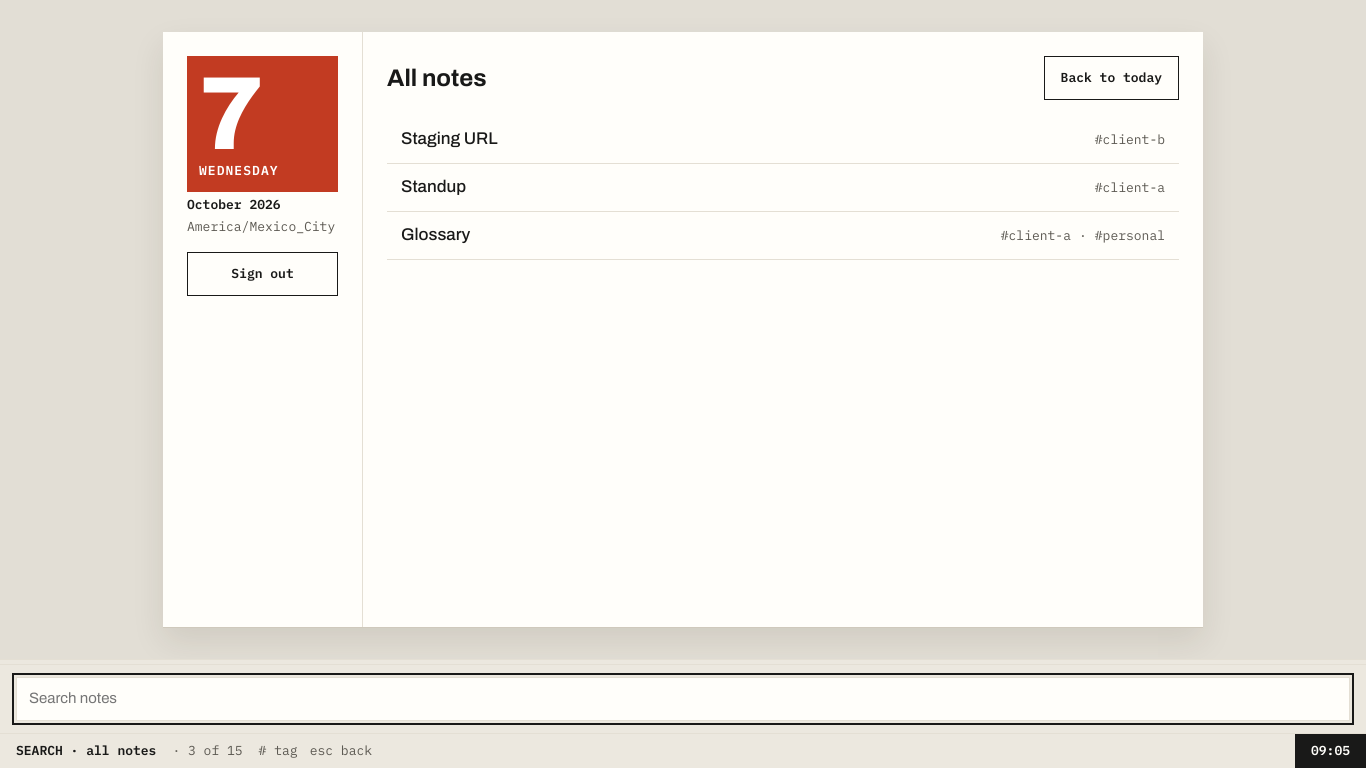
Test: esc inside the open bar with a tag active clears the tag and closes the bar; without one it only closes
This screenshot has width=1366, height=768.
Press # in the field named "Search your notes", box x1=16 y1=677 x2=1350 y2=721
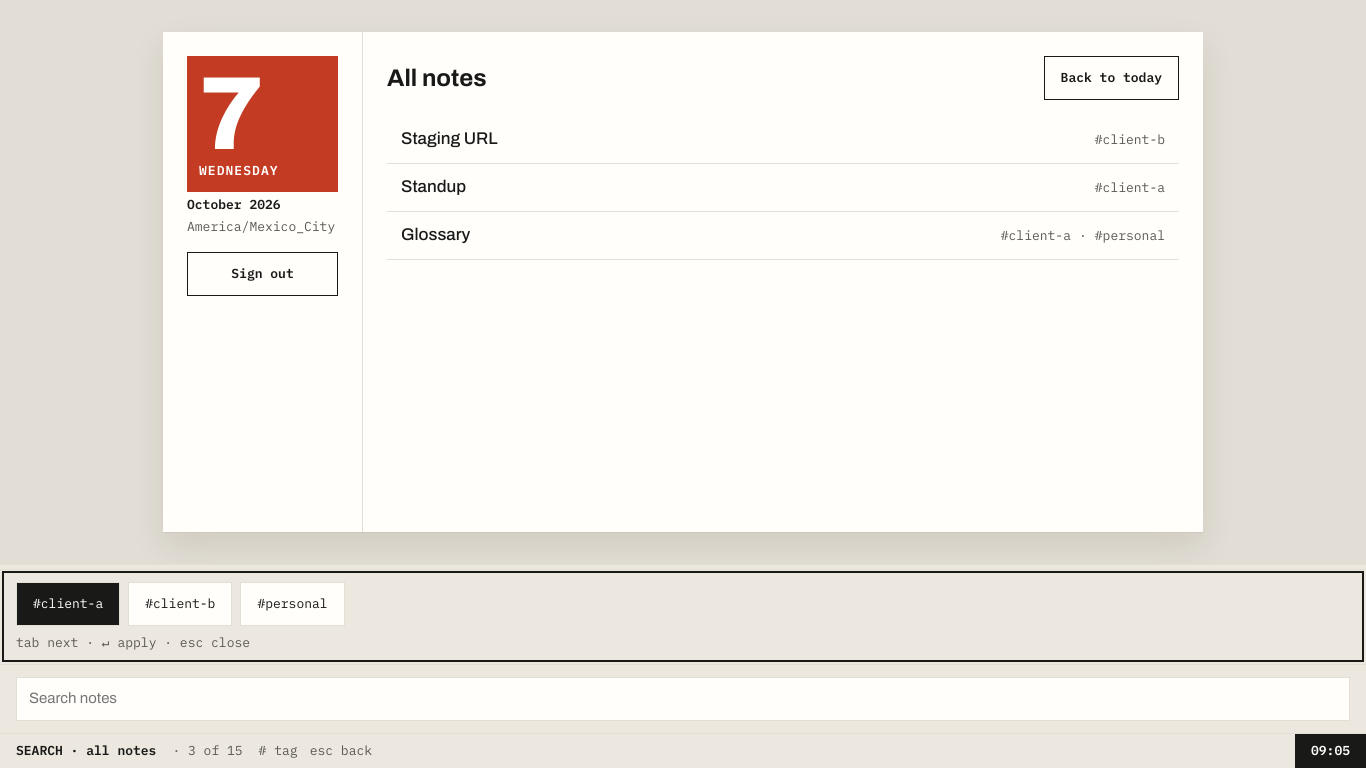
Press Escape in the element named "Filter by tag", box x1=0 y1=569 x2=1365 y2=664
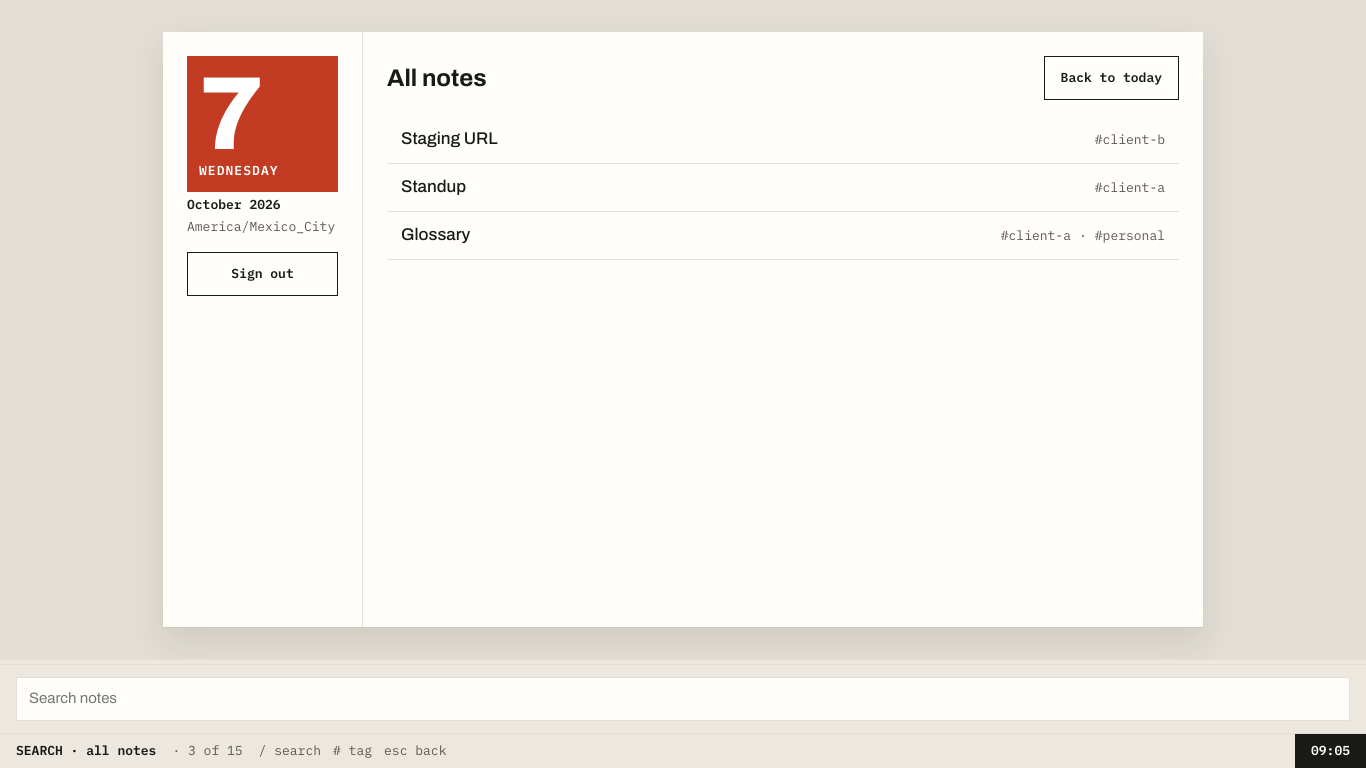
Press # in the field named "Search your notes", box x1=16 y1=677 x2=1350 y2=721
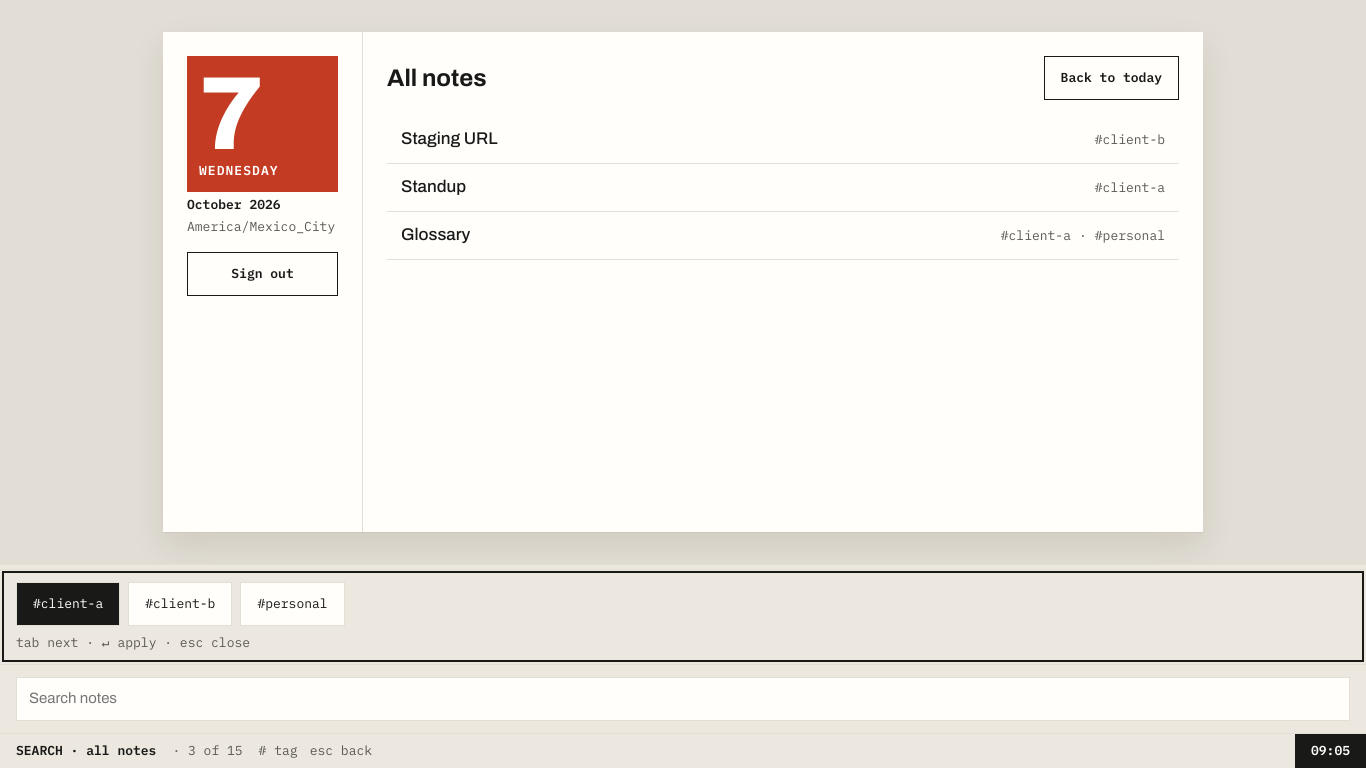
Click the button "#client-b" at (180, 604), box x1=128 y1=582 x2=232 y2=626
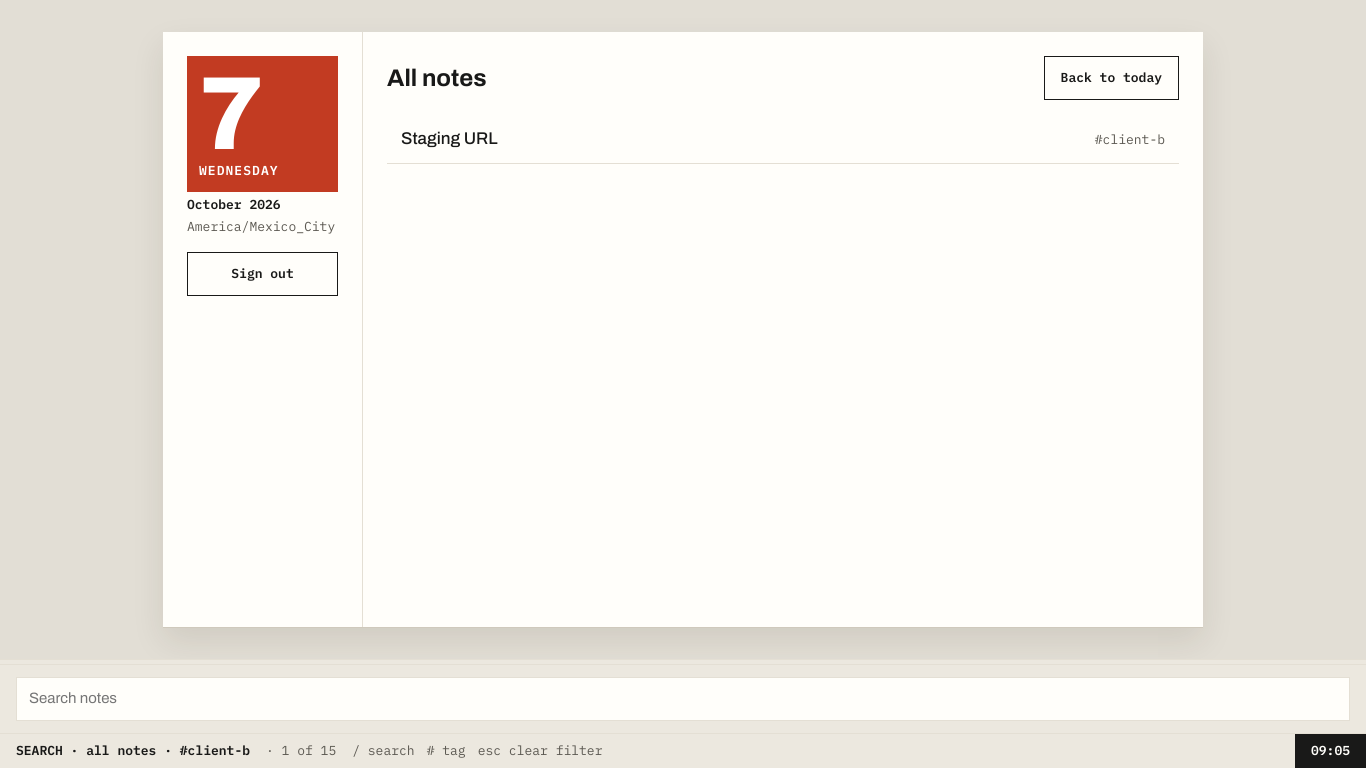
Now the number of list items is 1, box x1=387 y1=116 x2=1179 y2=164
Press # in the field named "Search your notes", box x1=16 y1=677 x2=1350 y2=721
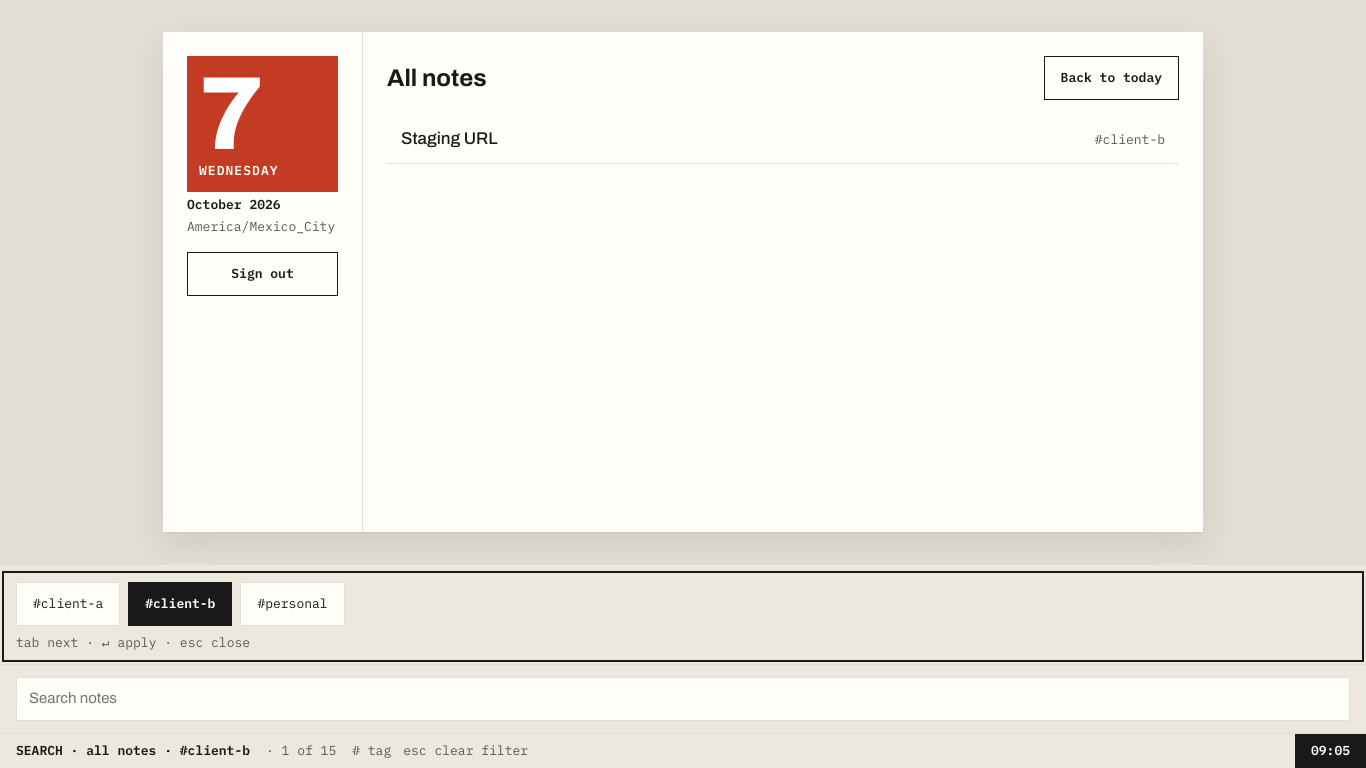
Press Escape in the element named "Filter by tag", box x1=0 y1=569 x2=1365 y2=664
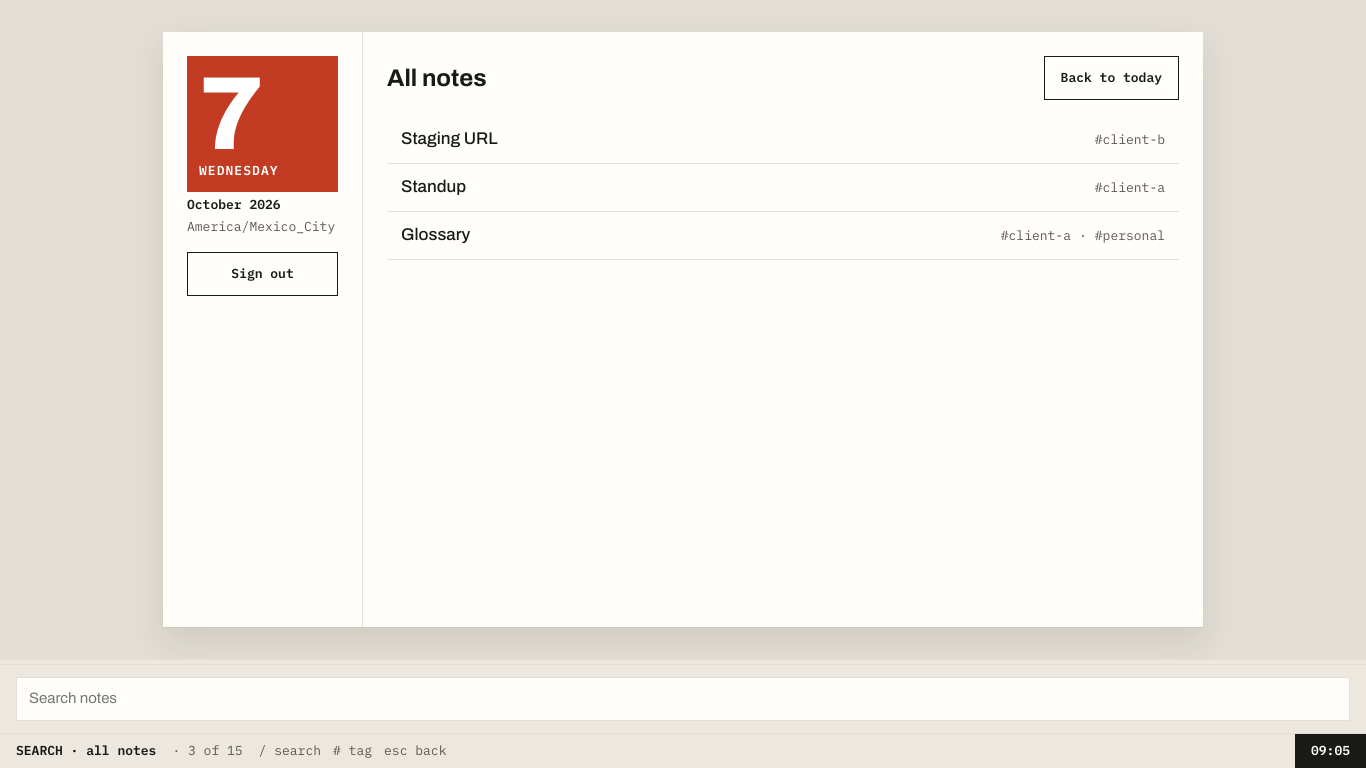
Now the number of list items is 3, box x1=387 y1=116 x2=1179 y2=164; x1=387 y1=164 x2=1179 y2=212; x1=387 y1=212 x2=1179 y2=260
